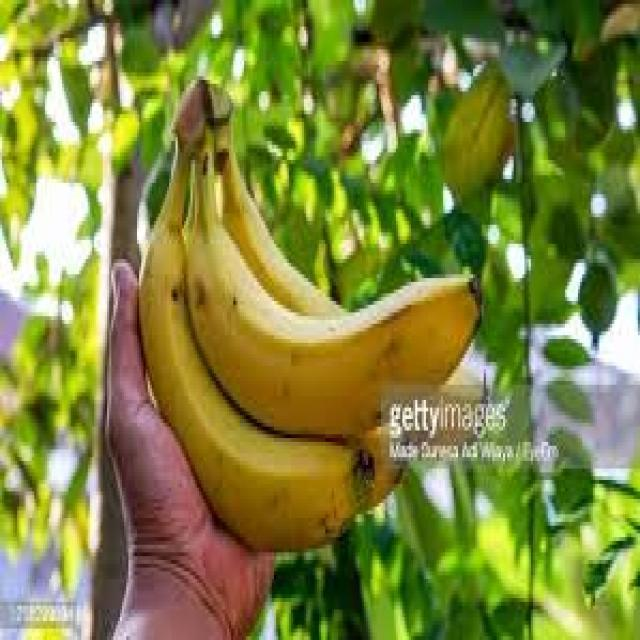Banana: (137, 72, 484, 552)
